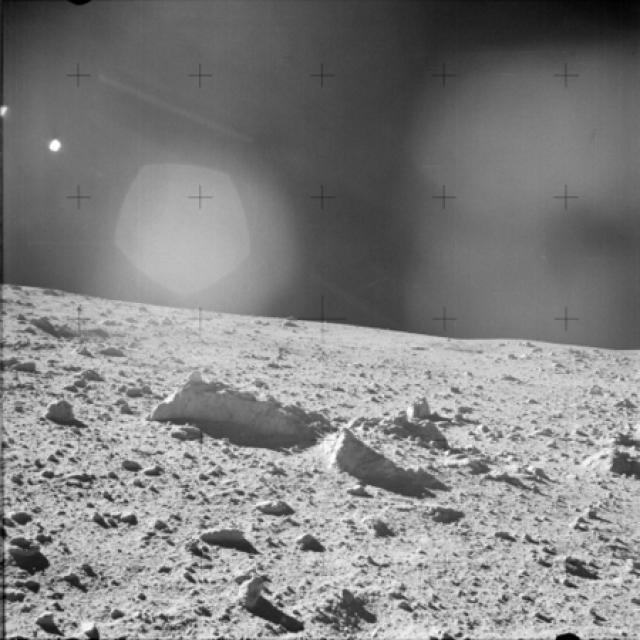rock: (142, 364, 321, 449), (376, 398, 445, 452), (317, 425, 379, 480), (574, 445, 638, 494), (2, 531, 53, 573), (236, 562, 278, 611), (443, 448, 492, 484), (42, 396, 82, 434), (353, 512, 403, 540), (294, 525, 328, 558), (340, 479, 380, 507), (201, 520, 240, 548), (422, 504, 462, 530), (242, 495, 289, 517), (116, 372, 150, 401), (0, 352, 42, 375), (104, 392, 136, 421), (478, 470, 524, 490), (31, 310, 62, 339), (95, 342, 126, 362), (76, 365, 103, 383)
